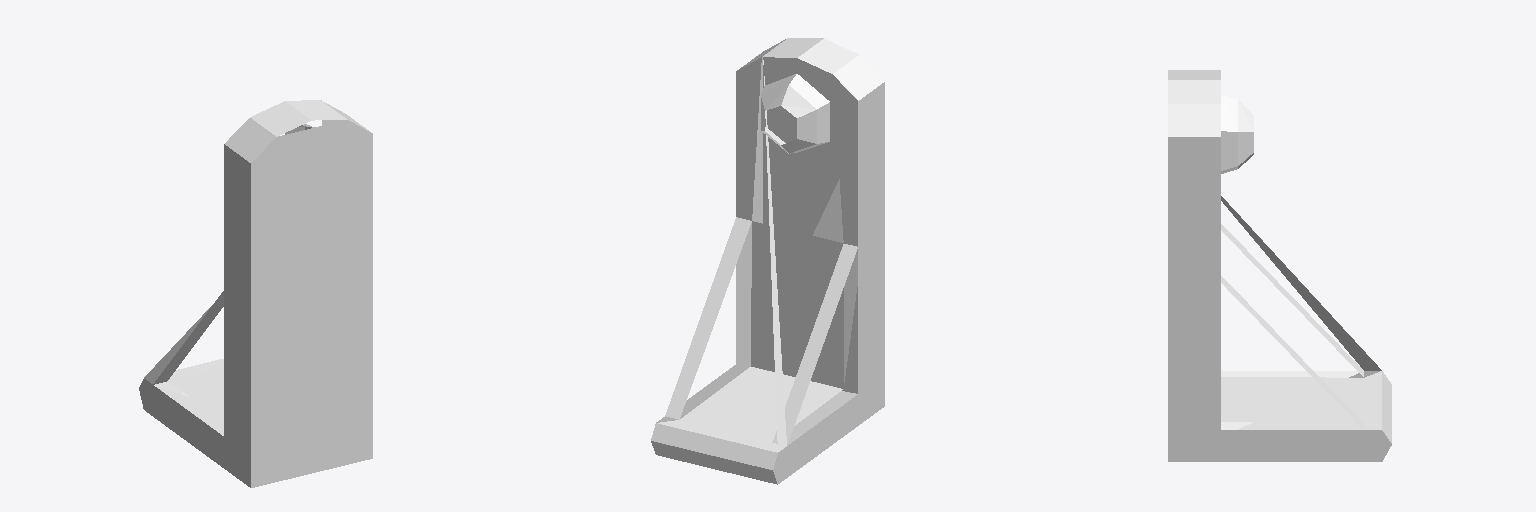
The model's file is COTBIT.obj.
The picture shows the model from 3 angles: view 1: azimuth 30°, elevation 25°; view 2: azimuth 150°, elevation 25°; view 3: azimuth 270°, elevation 25°; orthographic projection.
Parts seen in each view (by area): view 1: COTBIT_node00_face01, COTBIT_node00_face00; view 2: COTBIT_node00_face01, COTBIT_node00_face00; view 3: COTBIT_node00_face01, COTBIT_node00_face00.
Boxes of the visible parts, x1,y1,x2,y2 form: COTBIT_node00_face01: [139, 100, 372, 487]; COTBIT_node00_face00: [144, 120, 372, 487]; COTBIT_node00_face01: [651, 38, 884, 484]; COTBIT_node00_face00: [654, 57, 884, 469]; COTBIT_node00_face01: [1168, 70, 1391, 461]; COTBIT_node00_face00: [1168, 140, 1391, 461].
Size of the model in its own units: 100 by 276 by 159.